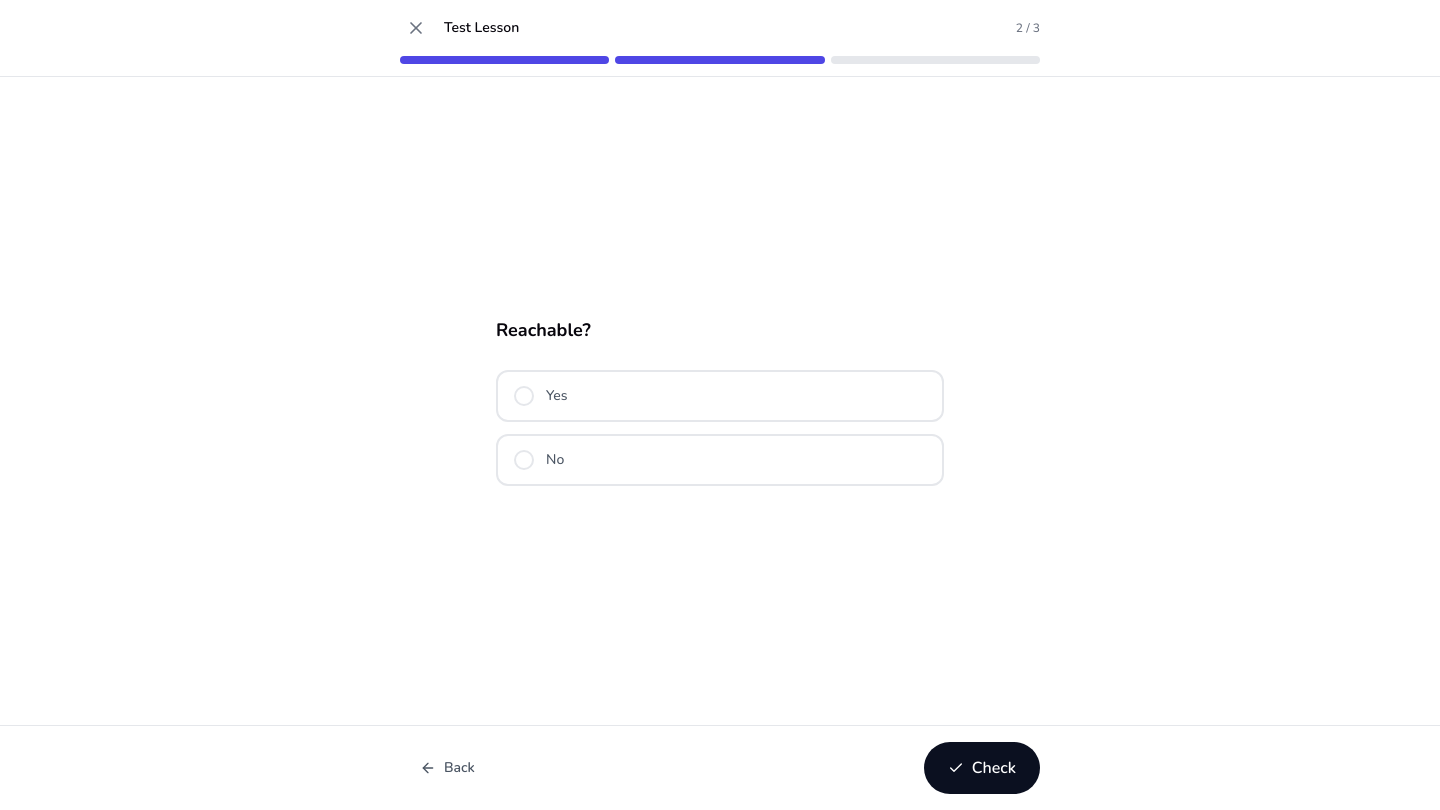
Test: LessonPlayer gating › navigates back to the previous slide
Expected: the text "Reachable?" is shown, [496,318,591,342]
Click the button with aria-label "Previous slide": click(447, 768) [400,746,495,790]
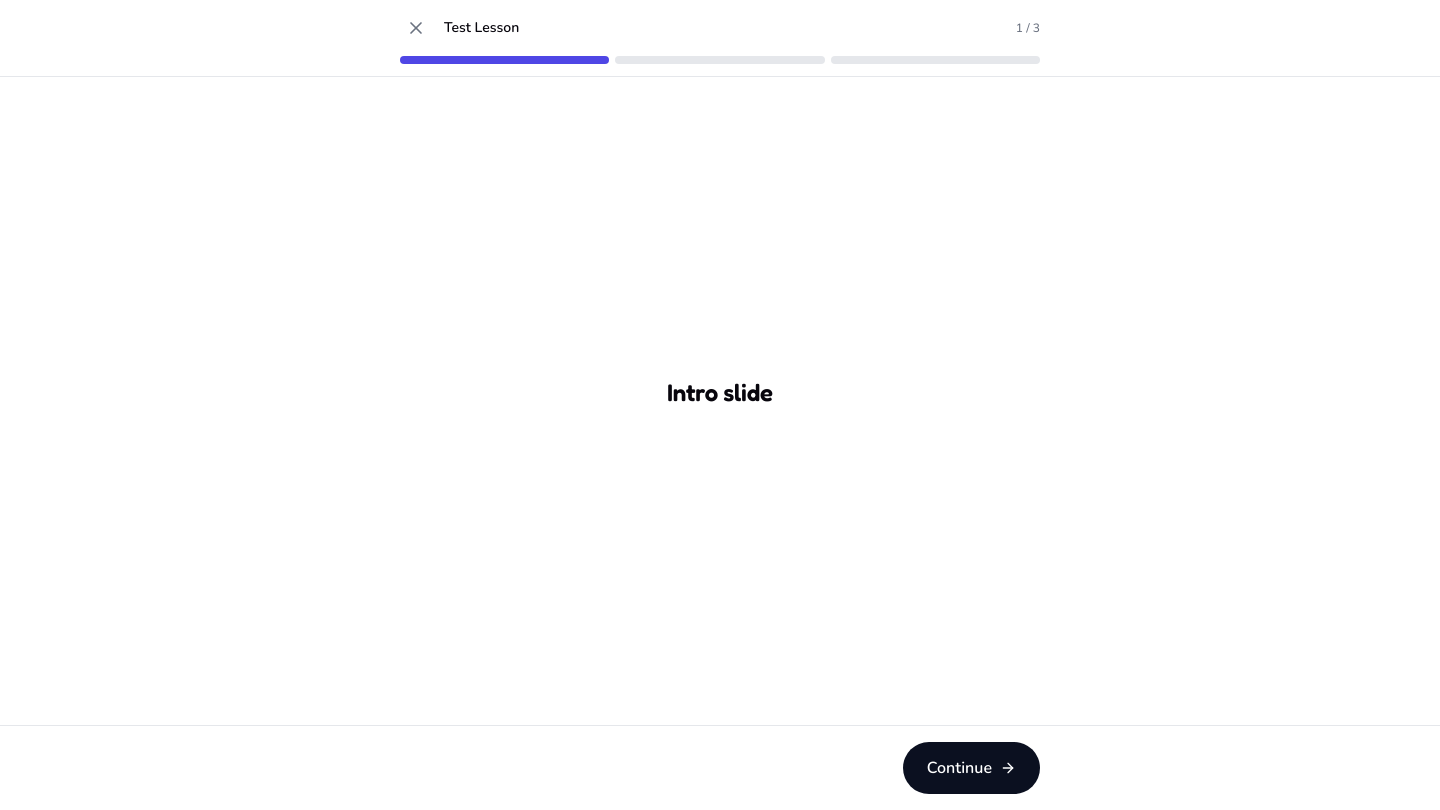
Expected: the heading "Intro slide" is shown, [667,378,773,407]
